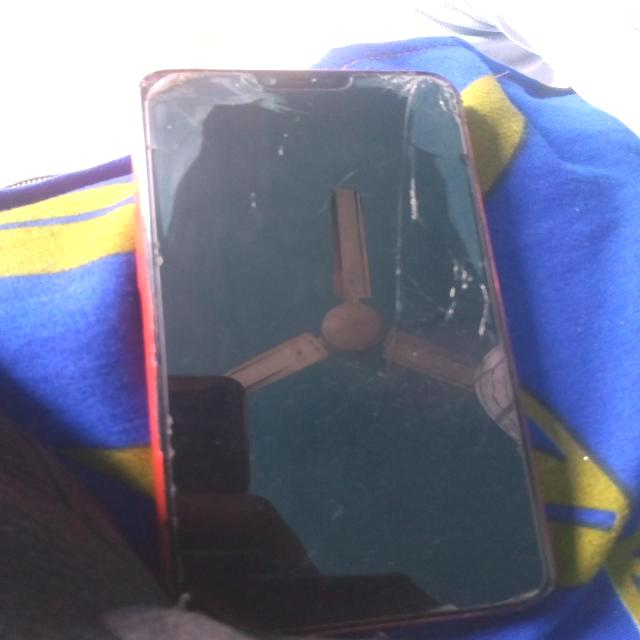phone: (128, 57, 559, 640)
